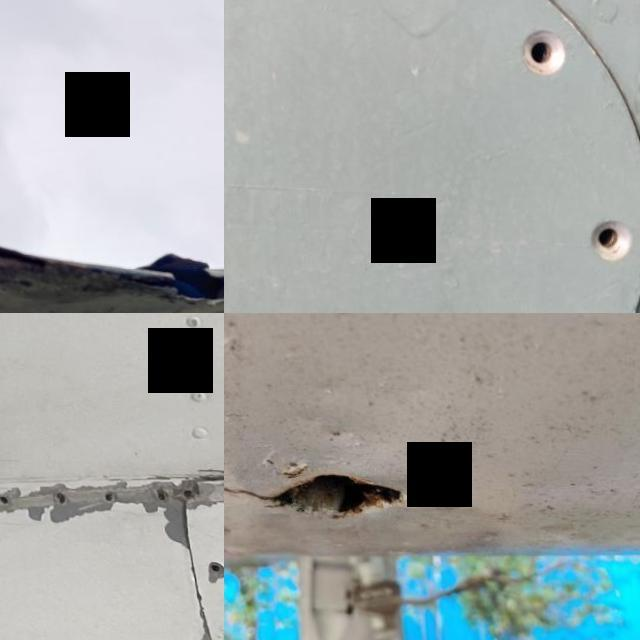Crack: (224, 446, 419, 536), (118, 233, 224, 313)
Missing_Fastener: (488, 2, 594, 101), (554, 181, 640, 284), (200, 560, 217, 570), (175, 486, 192, 496), (148, 487, 160, 499), (97, 491, 109, 502), (216, 484, 224, 497), (0, 493, 5, 504)
